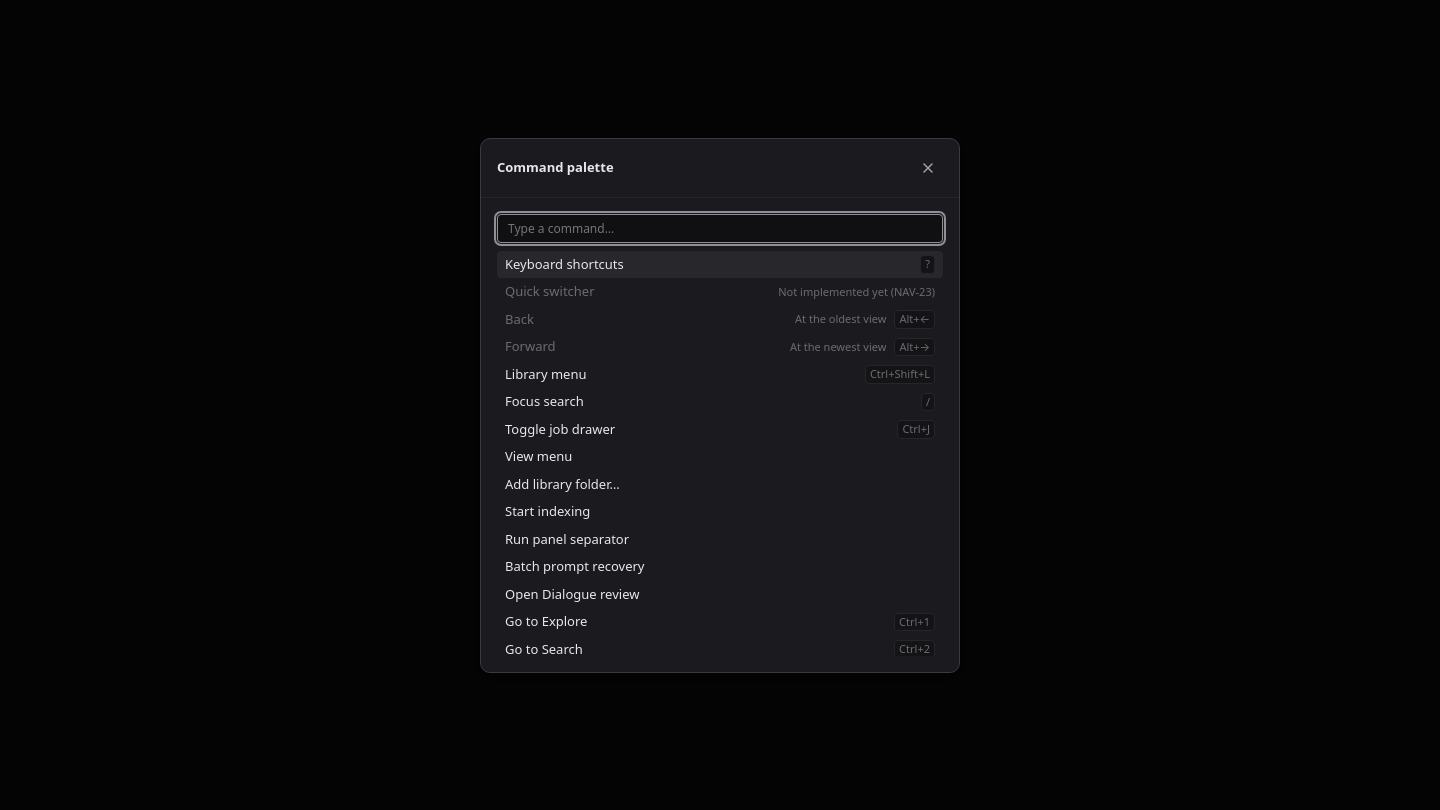
CommandPalette (NAV-24) › filters by typed text and puts "Search for …" first
In the dropdown named "Command palette search": (720, 228) [497, 214, 943, 242], type "settings"
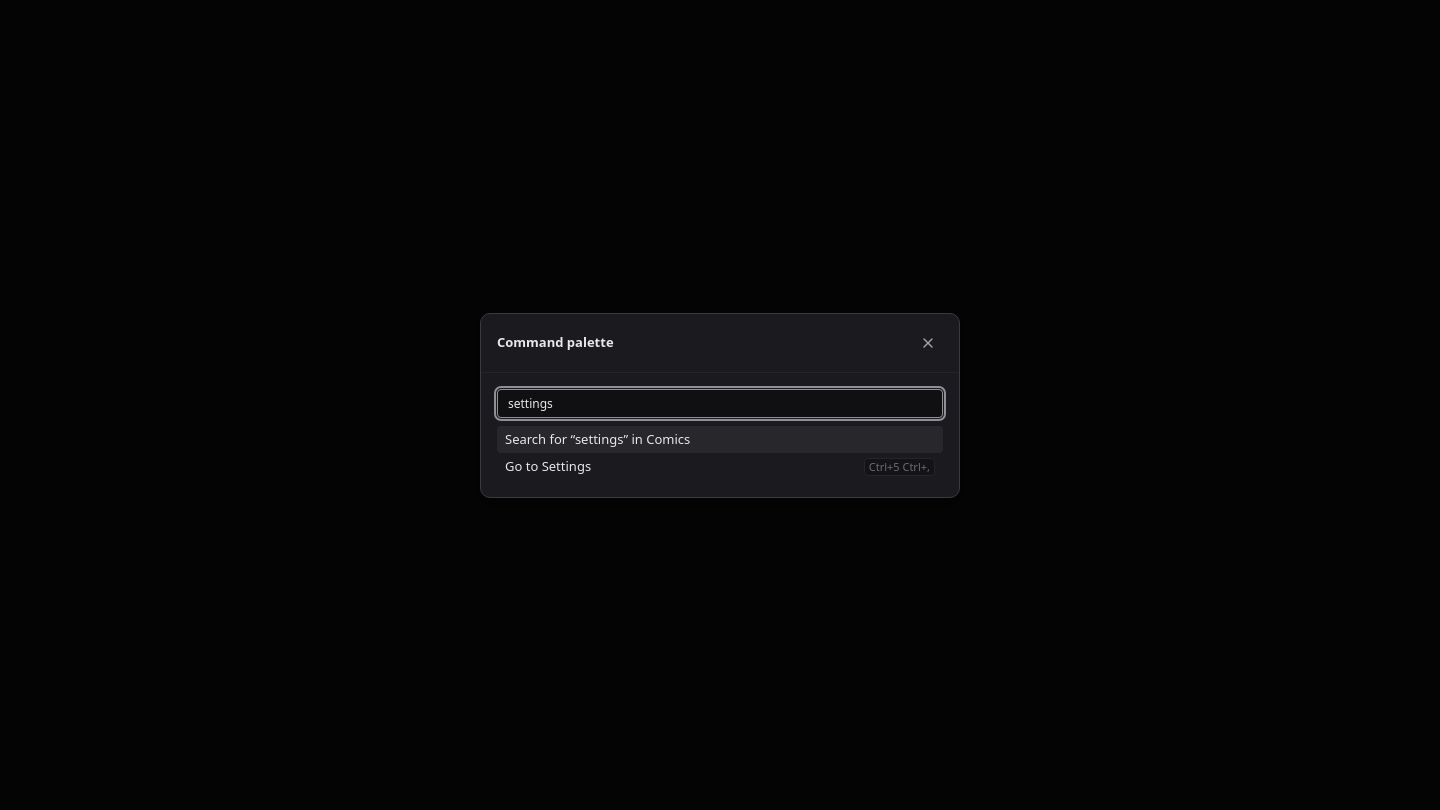
Expected: the number of options is 2, [497, 426, 943, 453]; [497, 453, 943, 480]
Expected: the option "Go to Settings Ctrl+5 Ctrl+," is shown, [497, 453, 943, 480]
